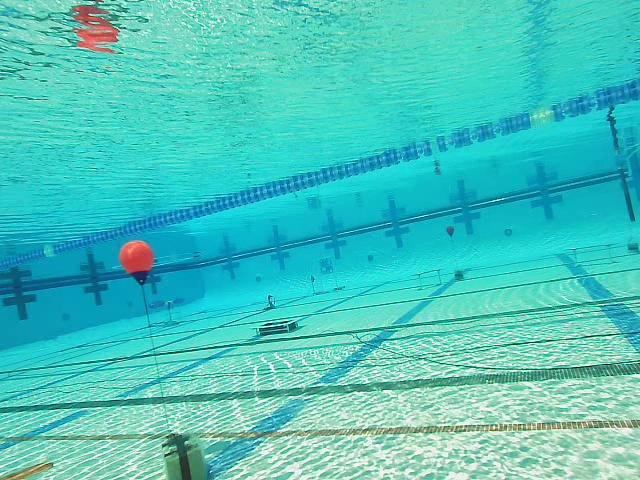buoy: (120, 240, 154, 285)
